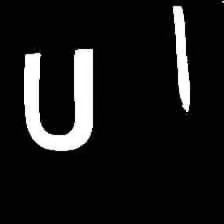LTR_U: (13, 42, 99, 154)
